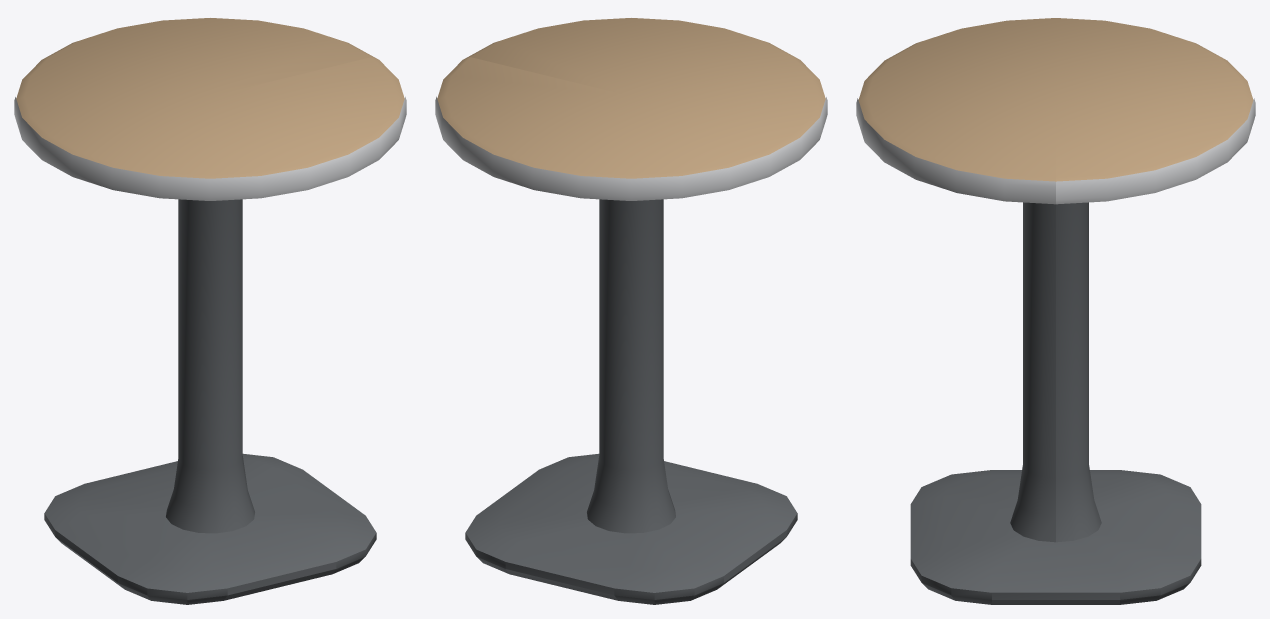
The model's file is bakery-and-cafe-cafe-table-2-person-038f8dc8__22200.glb.
3 renders of one model, left to right at view 1: azimuth 30°, elevation 25°; view 2: azimuth 150°, elevation 25°; view 3: azimuth 270°, elevation 25°, orthographic.
Parts seen in each view (by area): view 1: cafe-table-2-person; view 2: cafe-table-2-person; view 3: cafe-table-2-person.
Boxes of the visible parts, left/top/right/bottom form: cafe-table-2-person: left=14, top=18, right=406, bottom=604; cafe-table-2-person: left=435, top=18, right=827, bottom=604; cafe-table-2-person: left=856, top=18, right=1255, bottom=604.
Bounding box in the file's own units: 0.604 × 0.75 × 0.604.
